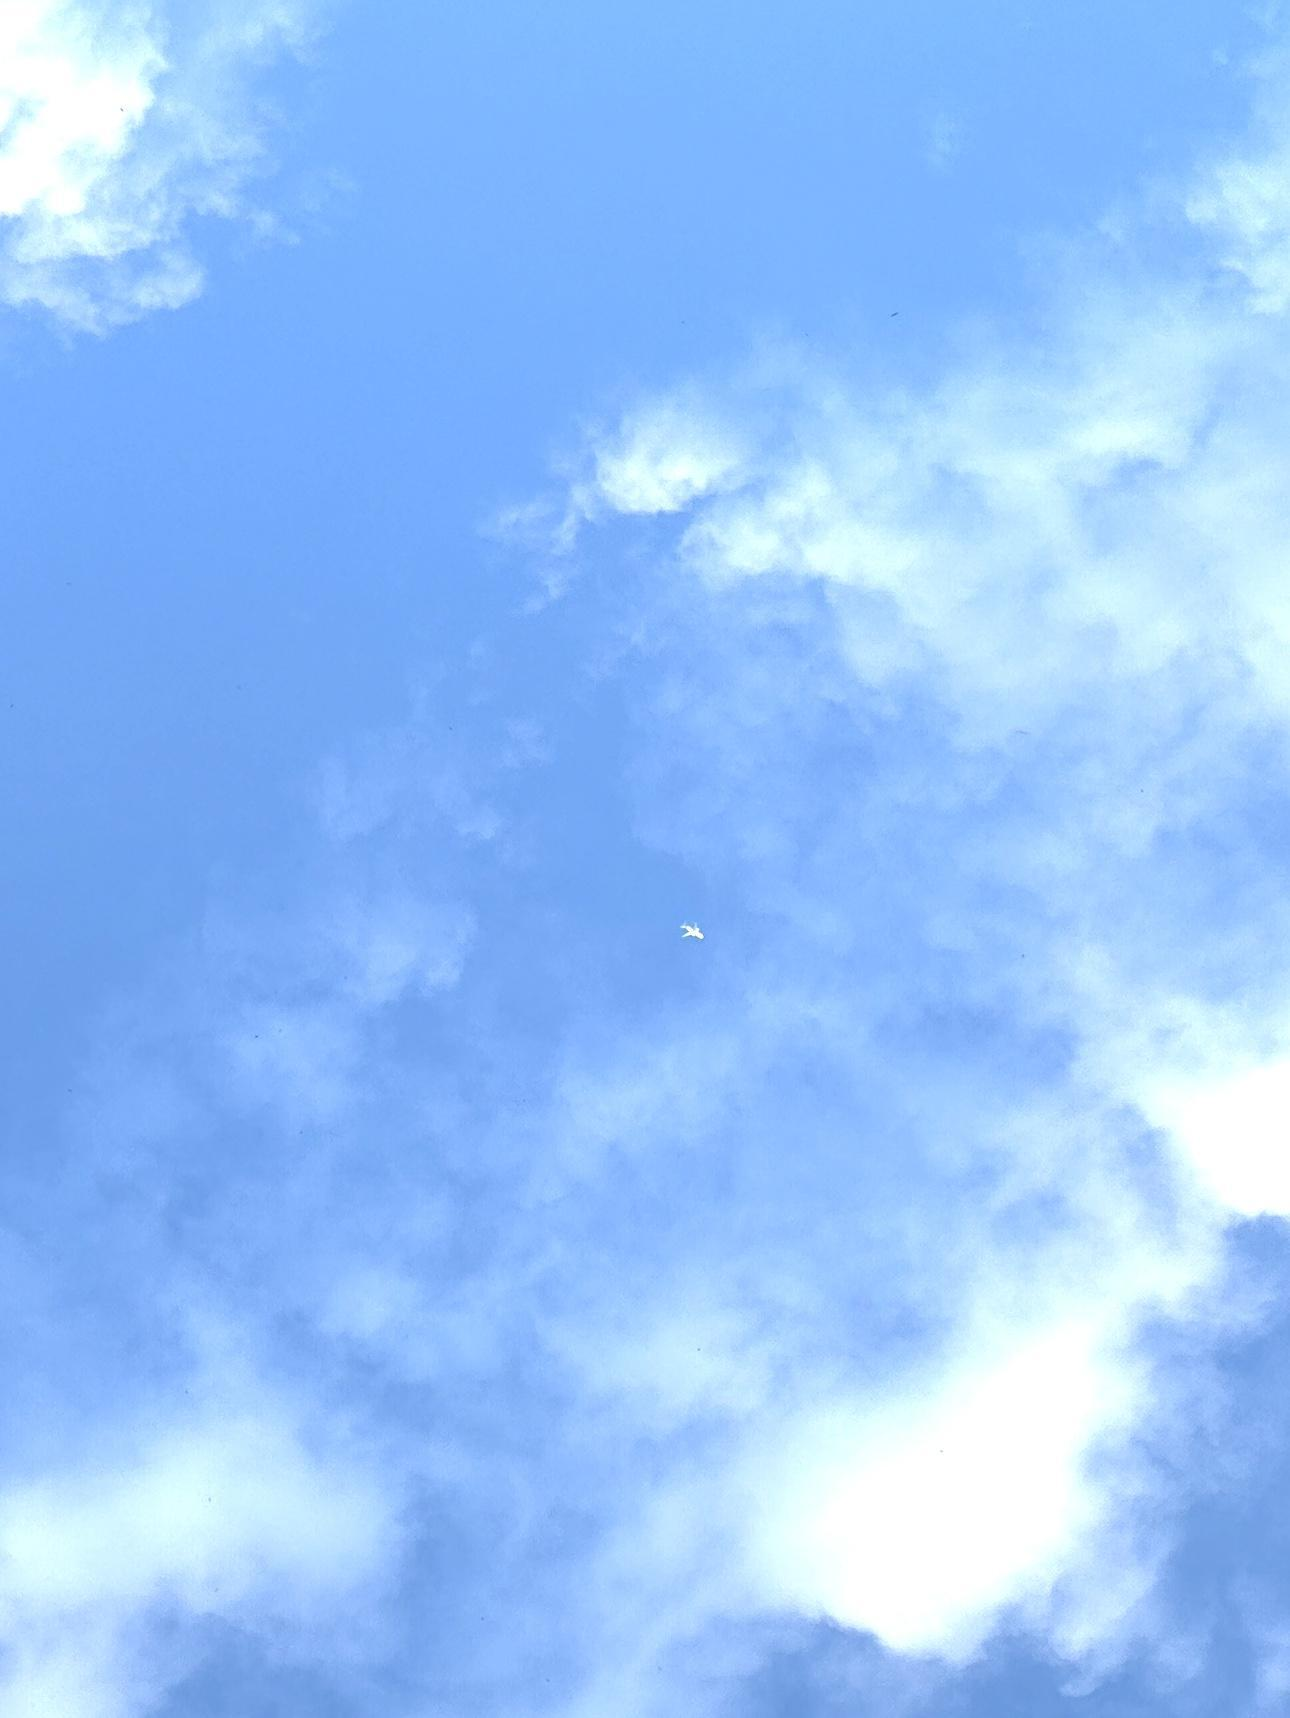Plane: (660, 909, 729, 965)
